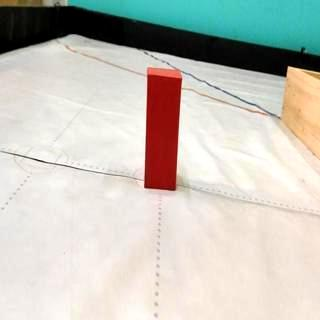redbox: (144, 66, 180, 191)
